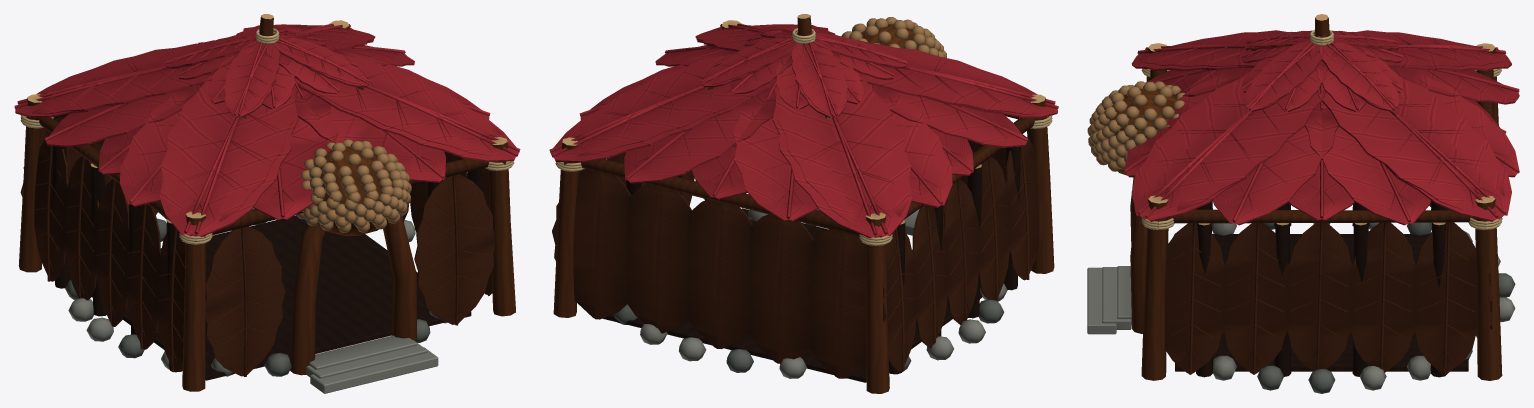
3 views of the same model, side by side, from view 1: azimuth 30°, elevation 25°; view 2: azimuth 150°, elevation 25°; view 3: azimuth 270°, elevation 25° (orthographic). The views are drawn at different scales.
Visible parts, largest first — view 1: canopy-mound · evaluated preview mesh; view 2: canopy-mound · evaluated preview mesh; view 3: canopy-mound · evaluated preview mesh.
Boxes of the visible parts, x1,y1,x2,y2 form: canopy-mound · evaluated preview mesh: (14, 14, 520, 393); canopy-mound · evaluated preview mesh: (549, 14, 1058, 393); canopy-mound · evaluated preview mesh: (1087, 14, 1519, 393).
Size of the model in its own units: 8 by 6.03 by 8.08.
10 materials, 5 textured.
